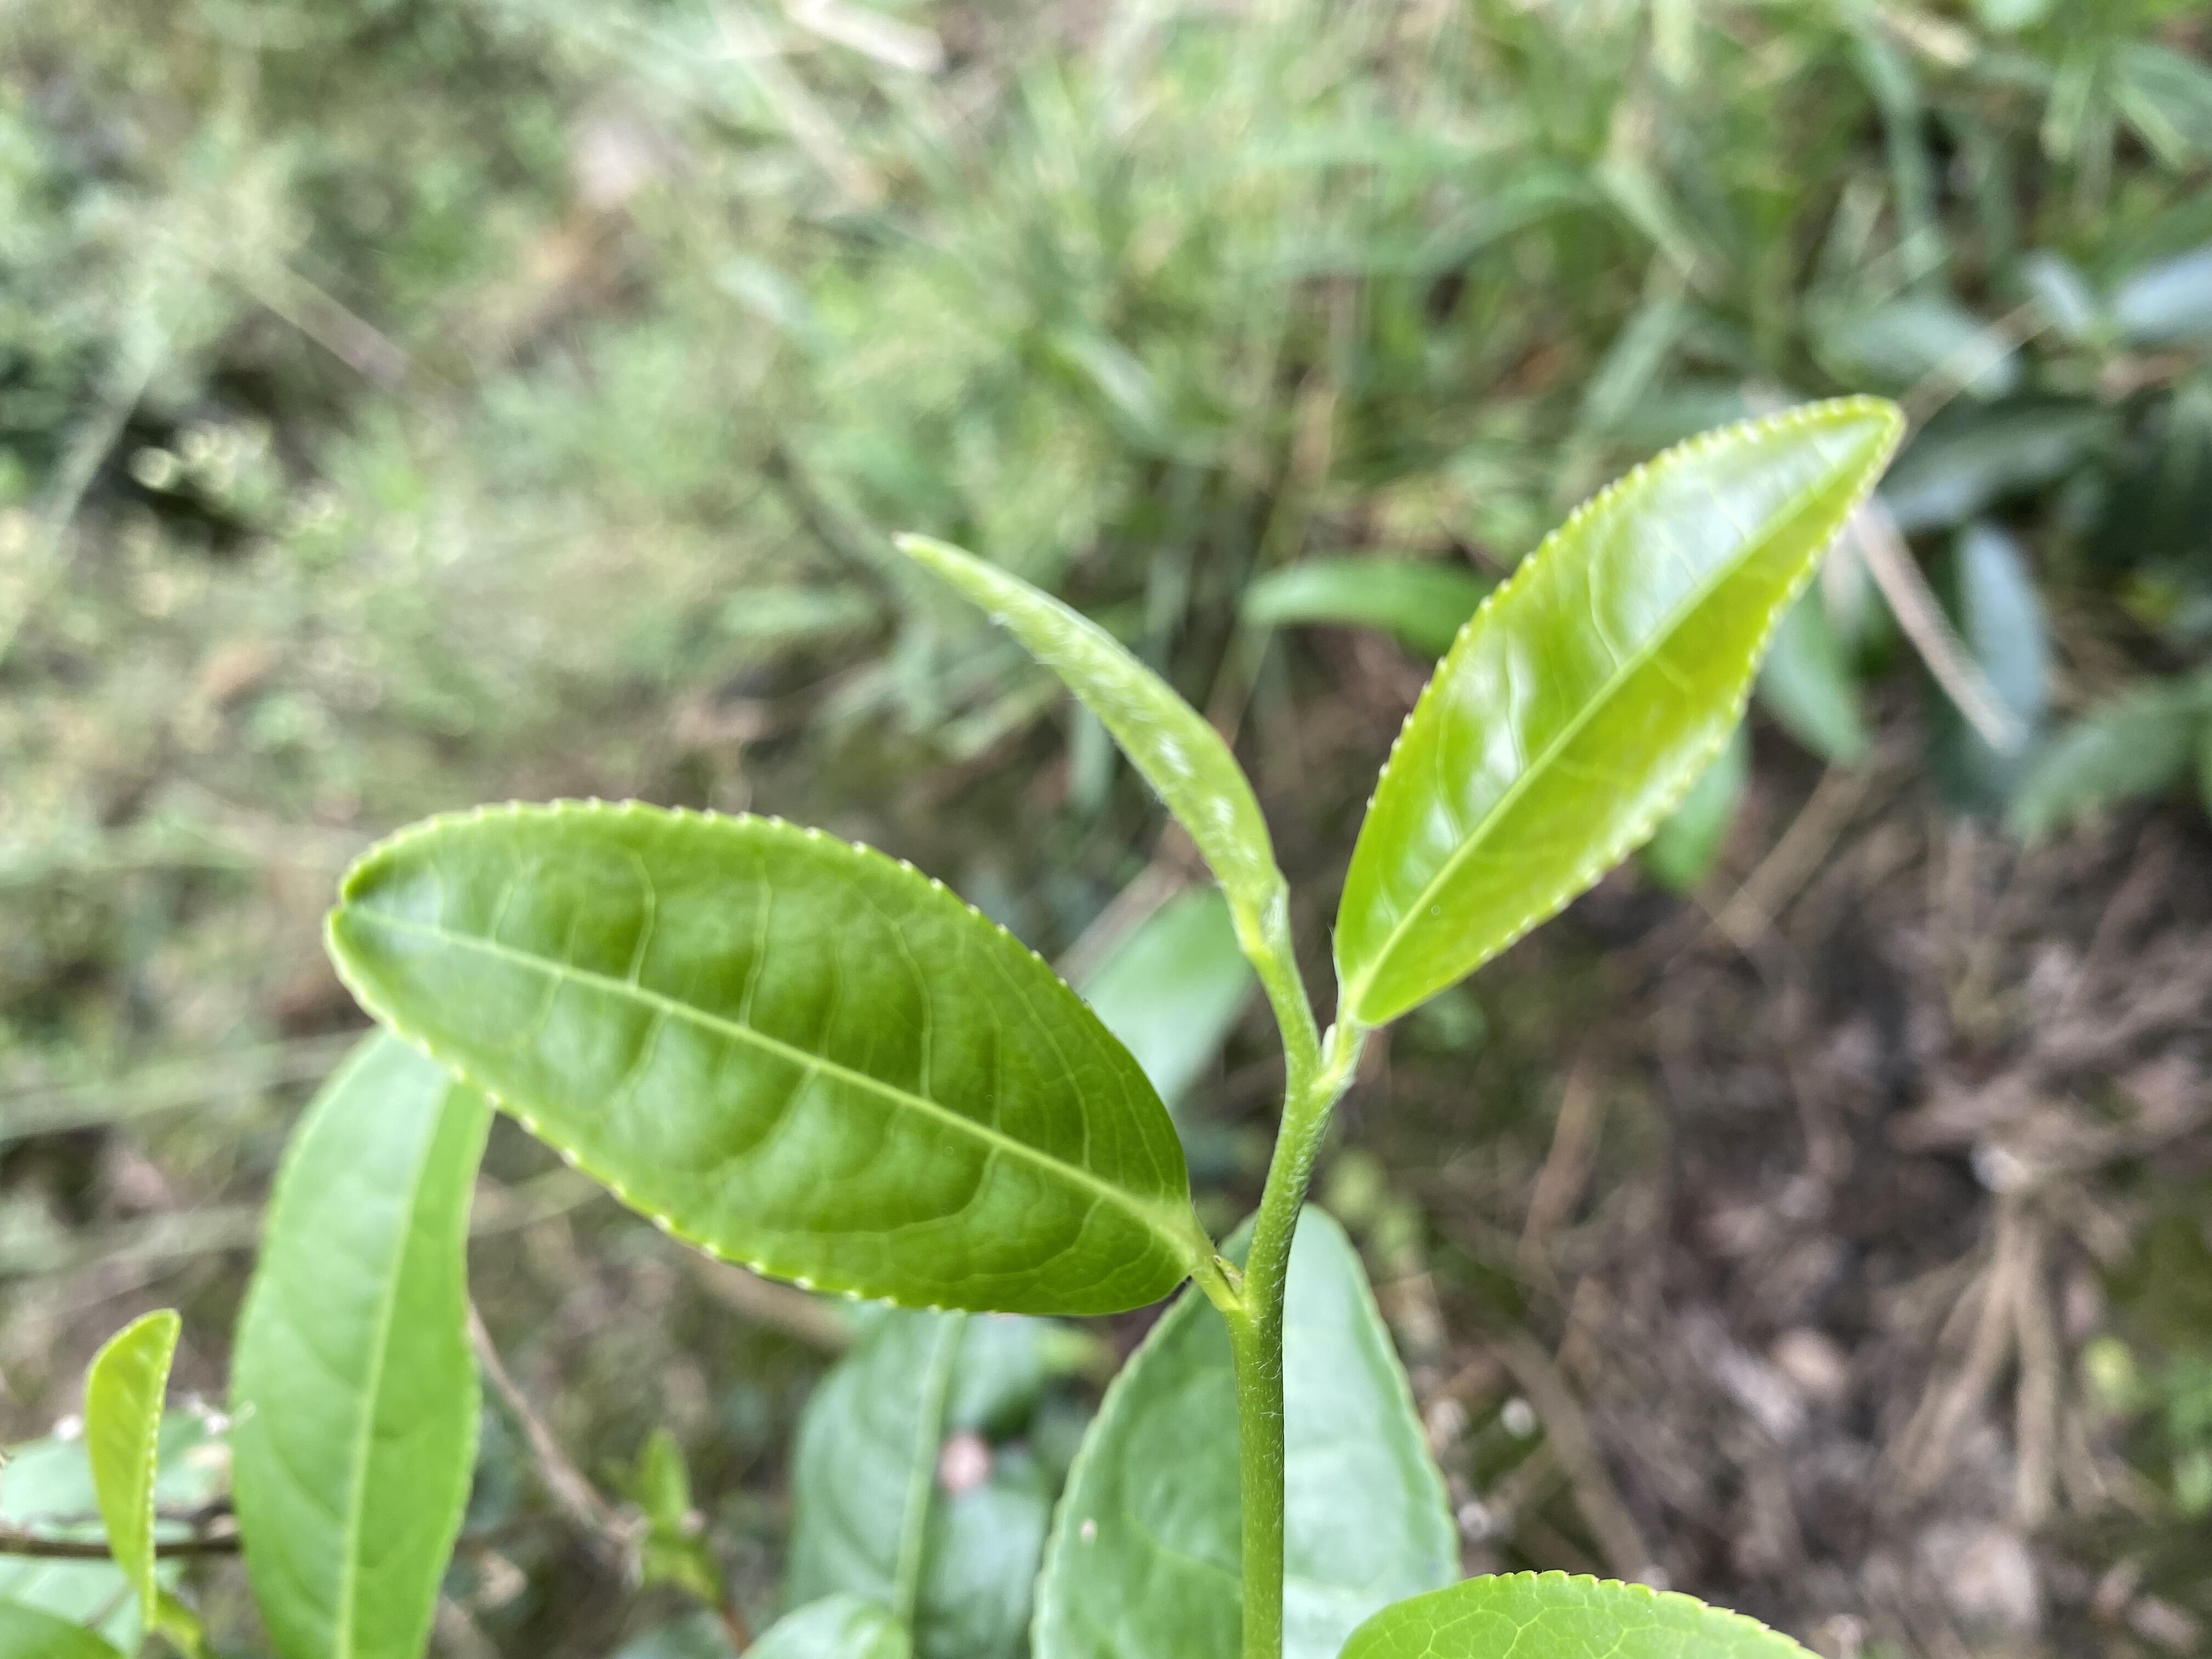healthy: (322, 796, 1198, 1324), (1331, 394, 1909, 1032)
